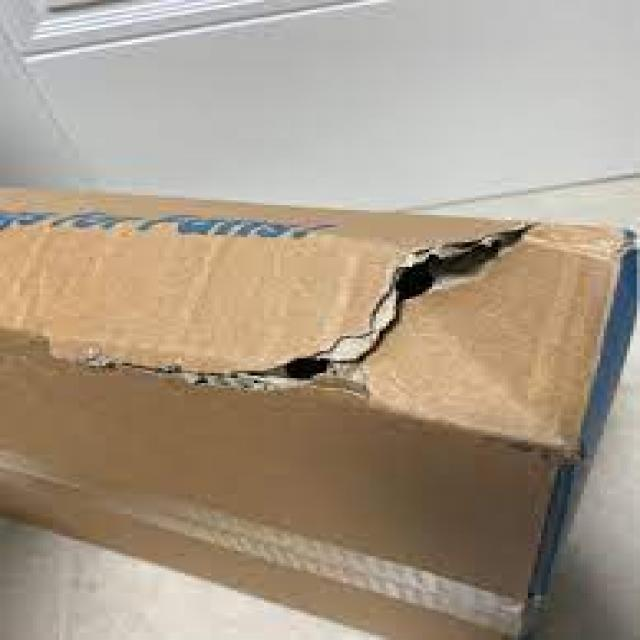damaged: (385, 222, 551, 297), (263, 345, 388, 415)
